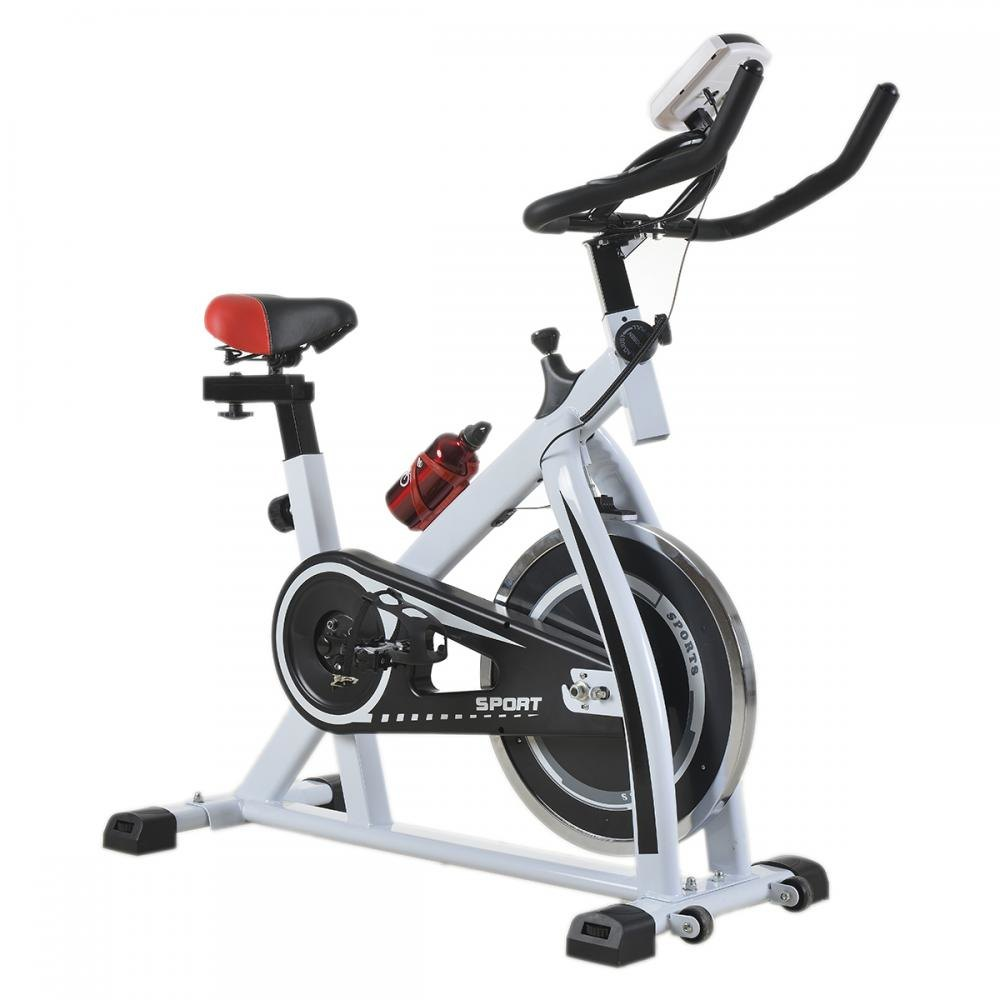gym_bike: (50, 42, 903, 974)
